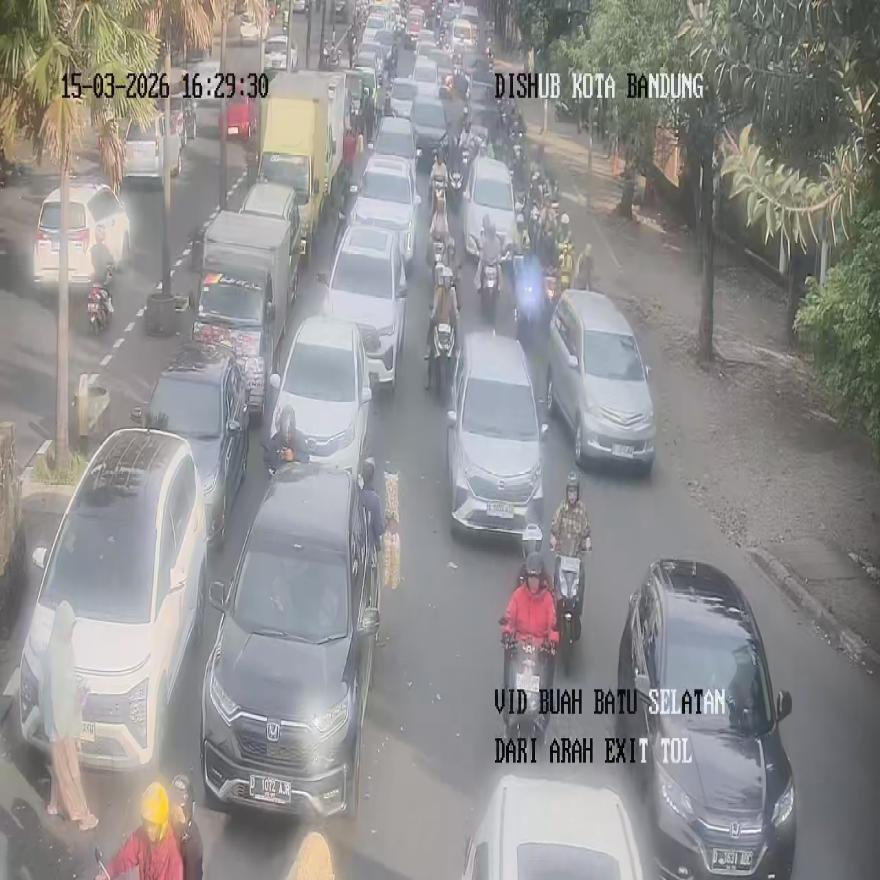Motor: (17, 427, 207, 771), (199, 461, 380, 819), (617, 558, 798, 876), (131, 342, 250, 548), (190, 209, 294, 419), (446, 330, 548, 541), (545, 288, 656, 473), (461, 771, 642, 878), (267, 316, 371, 486), (318, 222, 407, 392), (32, 176, 132, 296), (350, 153, 418, 270), (460, 155, 520, 262)
Truk: (501, 627, 555, 744), (554, 546, 586, 652), (514, 255, 541, 346), (428, 315, 456, 402), (86, 266, 113, 332), (477, 256, 499, 322)
